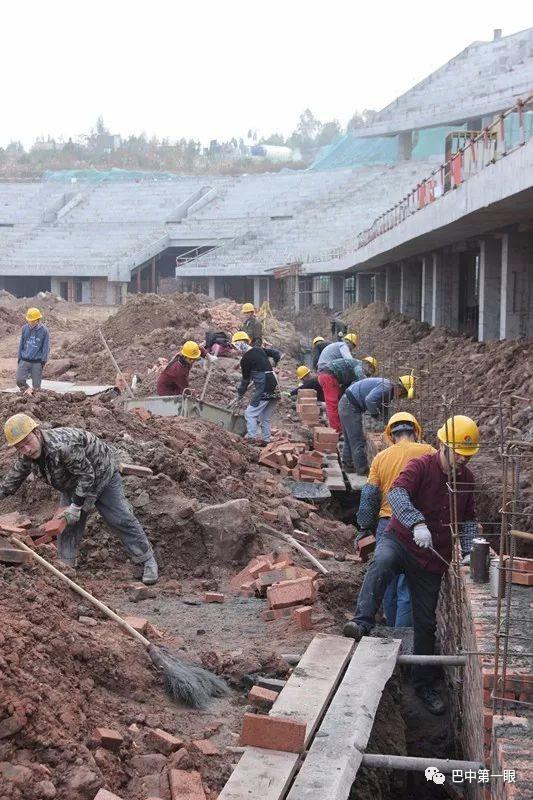helmet: (439, 414, 479, 456), (381, 412, 422, 442), (6, 415, 44, 445), (360, 354, 386, 375), (184, 340, 205, 362), (25, 305, 45, 326), (231, 330, 254, 347), (402, 375, 419, 397), (297, 364, 315, 384), (242, 304, 259, 320), (309, 336, 329, 347), (342, 335, 360, 346)
